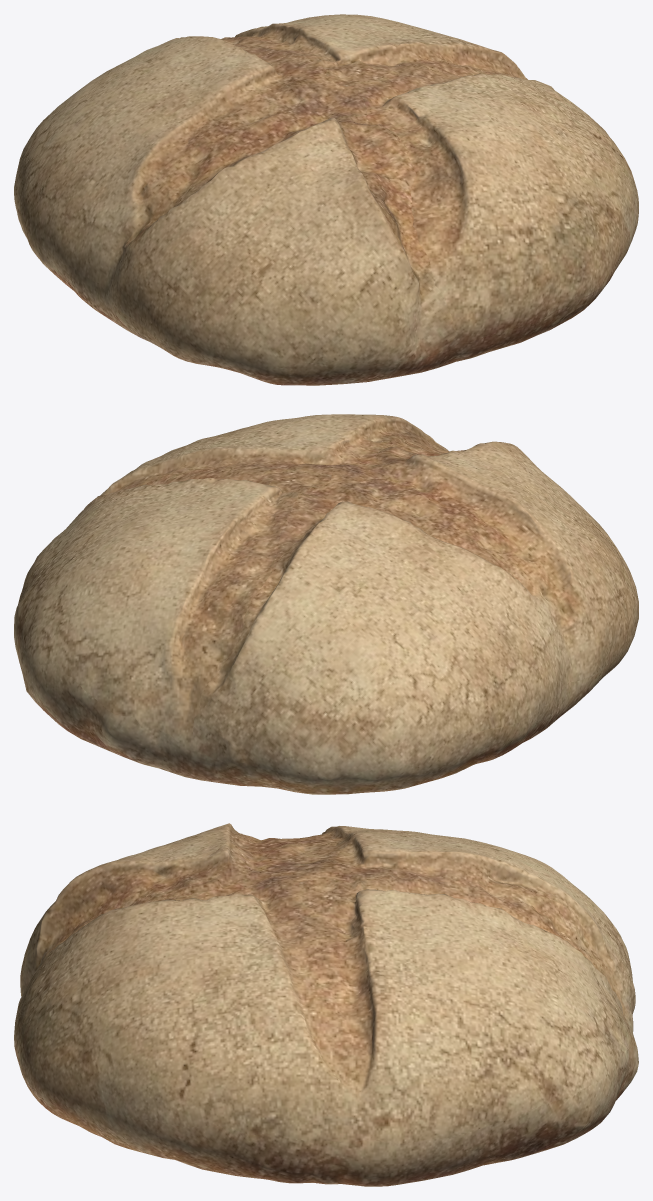
The model's file is bread_roll_3.fbx.
3 renders of one model, top to bottom at view 1: azimuth 30°, elevation 25°; view 2: azimuth 150°, elevation 25°; view 3: azimuth 270°, elevation 25°, orthographic. The views are drawn at different scales.
Visible parts, largest first — view 1: BreadRoll3; view 2: BreadRoll3; view 3: BreadRoll3.
Part boxes in pixels (bbox=[...]): BreadRoll3: bbox=[14, 14, 638, 385]; BreadRoll3: bbox=[14, 414, 638, 794]; BreadRoll3: bbox=[14, 823, 638, 1186].
Size of what is drawn, in the model's own units: 11.89 by 12.31 by 4.61.
